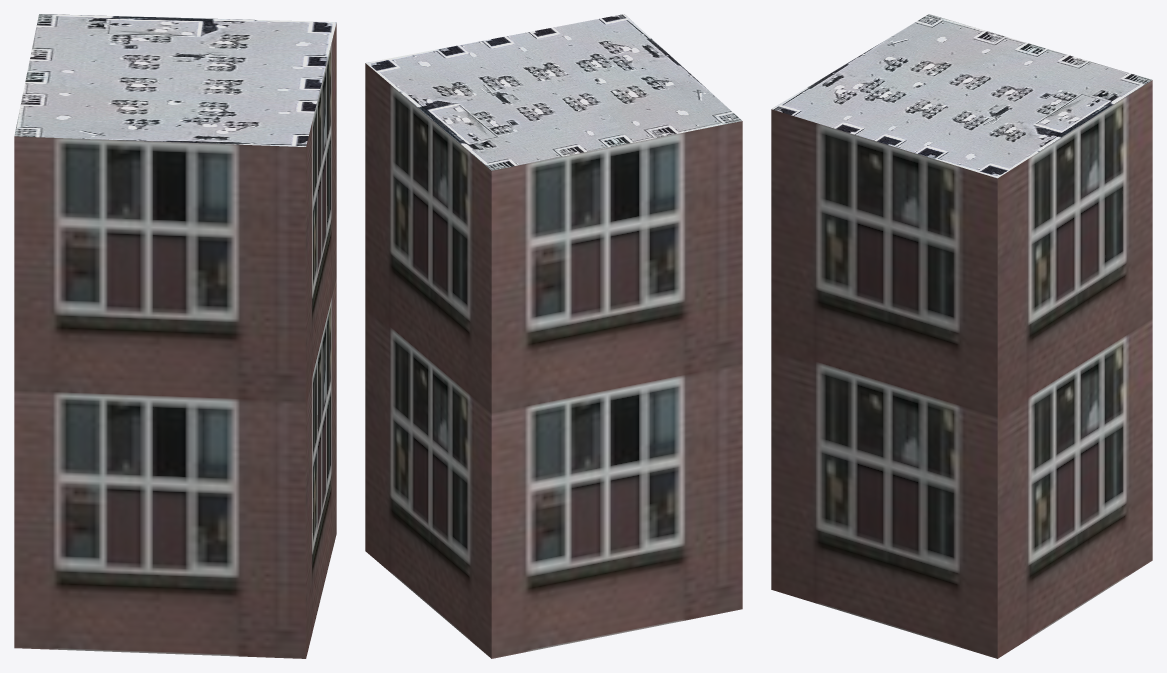
Rendered from ResTex__5081.fbx.
3 renders of one model, left to right at view 1: azimuth 30°, elevation 25°; view 2: azimuth 150°, elevation 25°; view 3: azimuth 270°, elevation 25°, orthographic. The views are drawn at different scales.
Parts seen in each view (by area): view 1: CityEngineMaterial_12_m, CityEngineMaterial_4_m; view 2: CityEngineMaterial_12_m, CityEngineMaterial_4_m; view 3: CityEngineMaterial_12_m, CityEngineMaterial_4_m.
Boxes of the visible parts, bbox=[...] form: CityEngineMaterial_12_m: bbox=[14, 23, 336, 658]; CityEngineMaterial_4_m: bbox=[14, 14, 336, 146]; CityEngineMaterial_12_m: bbox=[365, 63, 742, 658]; CityEngineMaterial_4_m: bbox=[366, 14, 741, 170]; CityEngineMaterial_12_m: bbox=[771, 80, 1152, 658]; CityEngineMaterial_4_m: bbox=[771, 14, 1151, 178].
Size of the model in its own units: 4.4 by 6 by 4.32.
Materials: 2 (2 with a texture image).
